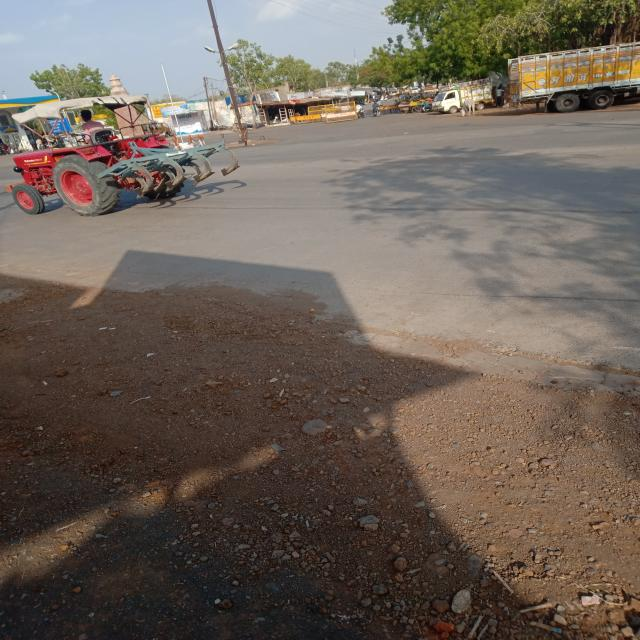Bike: (357, 104, 367, 124), (372, 104, 383, 116)
Truck: (500, 47, 640, 114)
tempo: (432, 77, 494, 115)
tractor: (8, 90, 212, 226)
